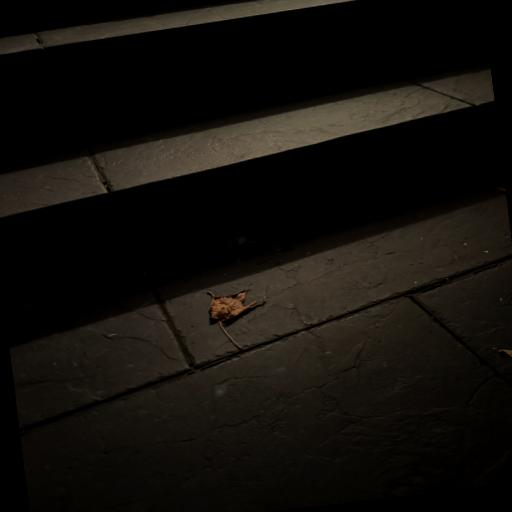stairs: (0, 0, 502, 283)
